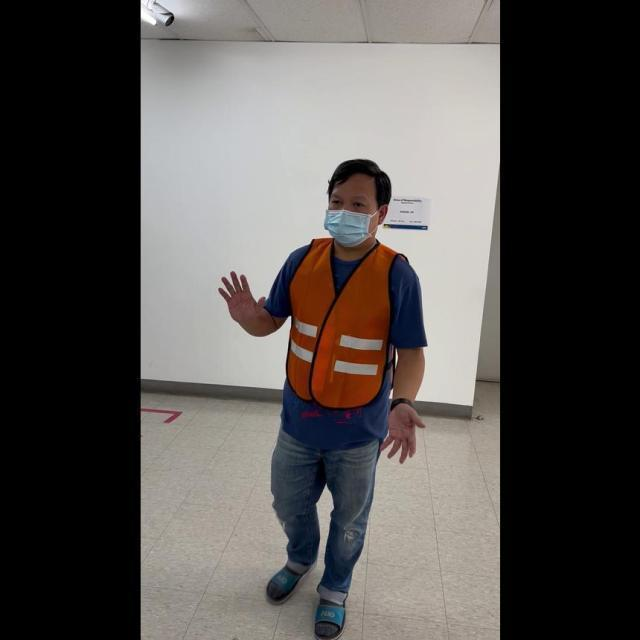bare_hand: (379, 397, 423, 466), (216, 266, 266, 325)
